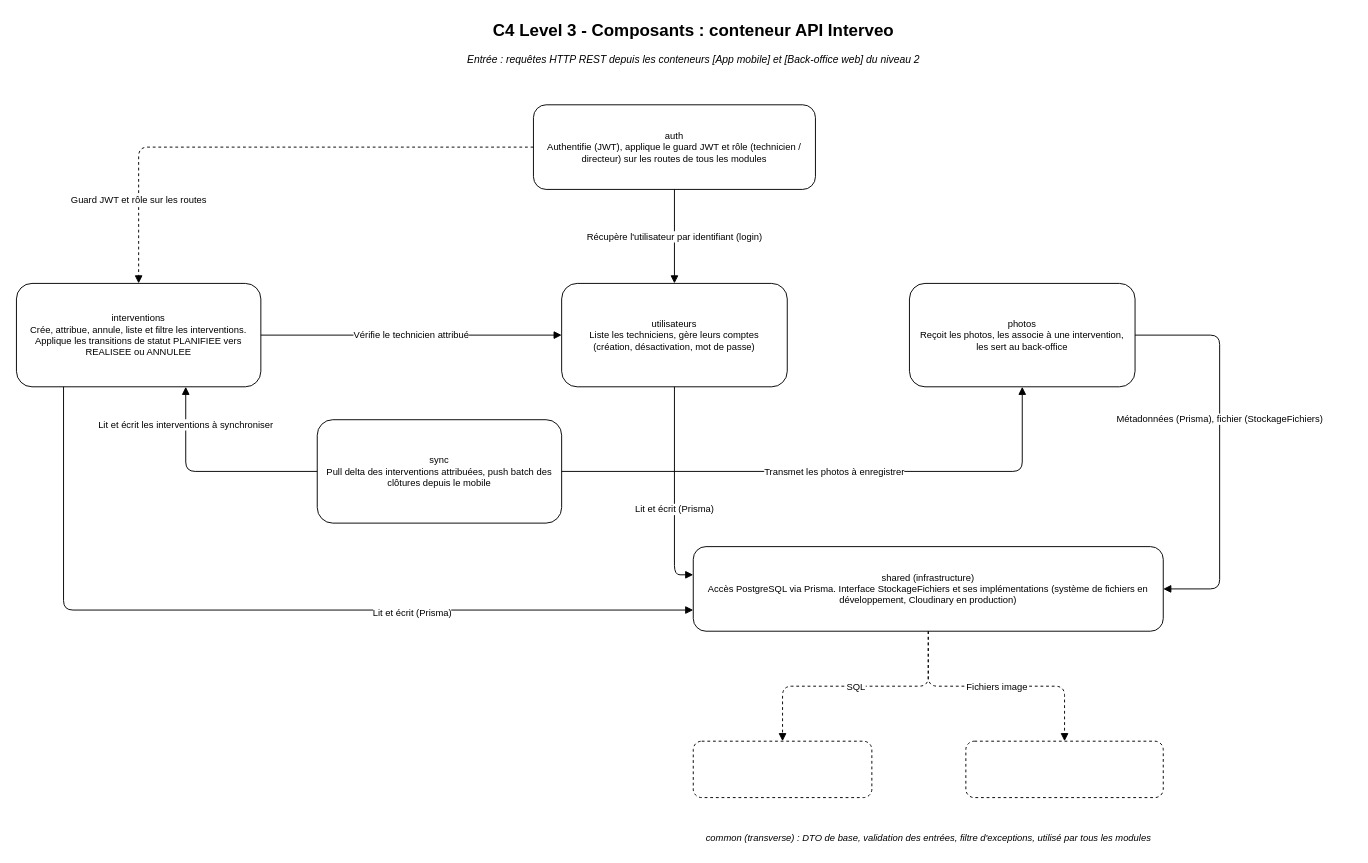
Image size: 1368x863. Some labels were removed from this diagram. Each missing label, with the box of its shape:
[PostgreSQL] conteneur du niveau 2: (692, 740, 872, 798)
[Stockage des photos] conteneur du niveau 2: (965, 740, 1163, 798)
